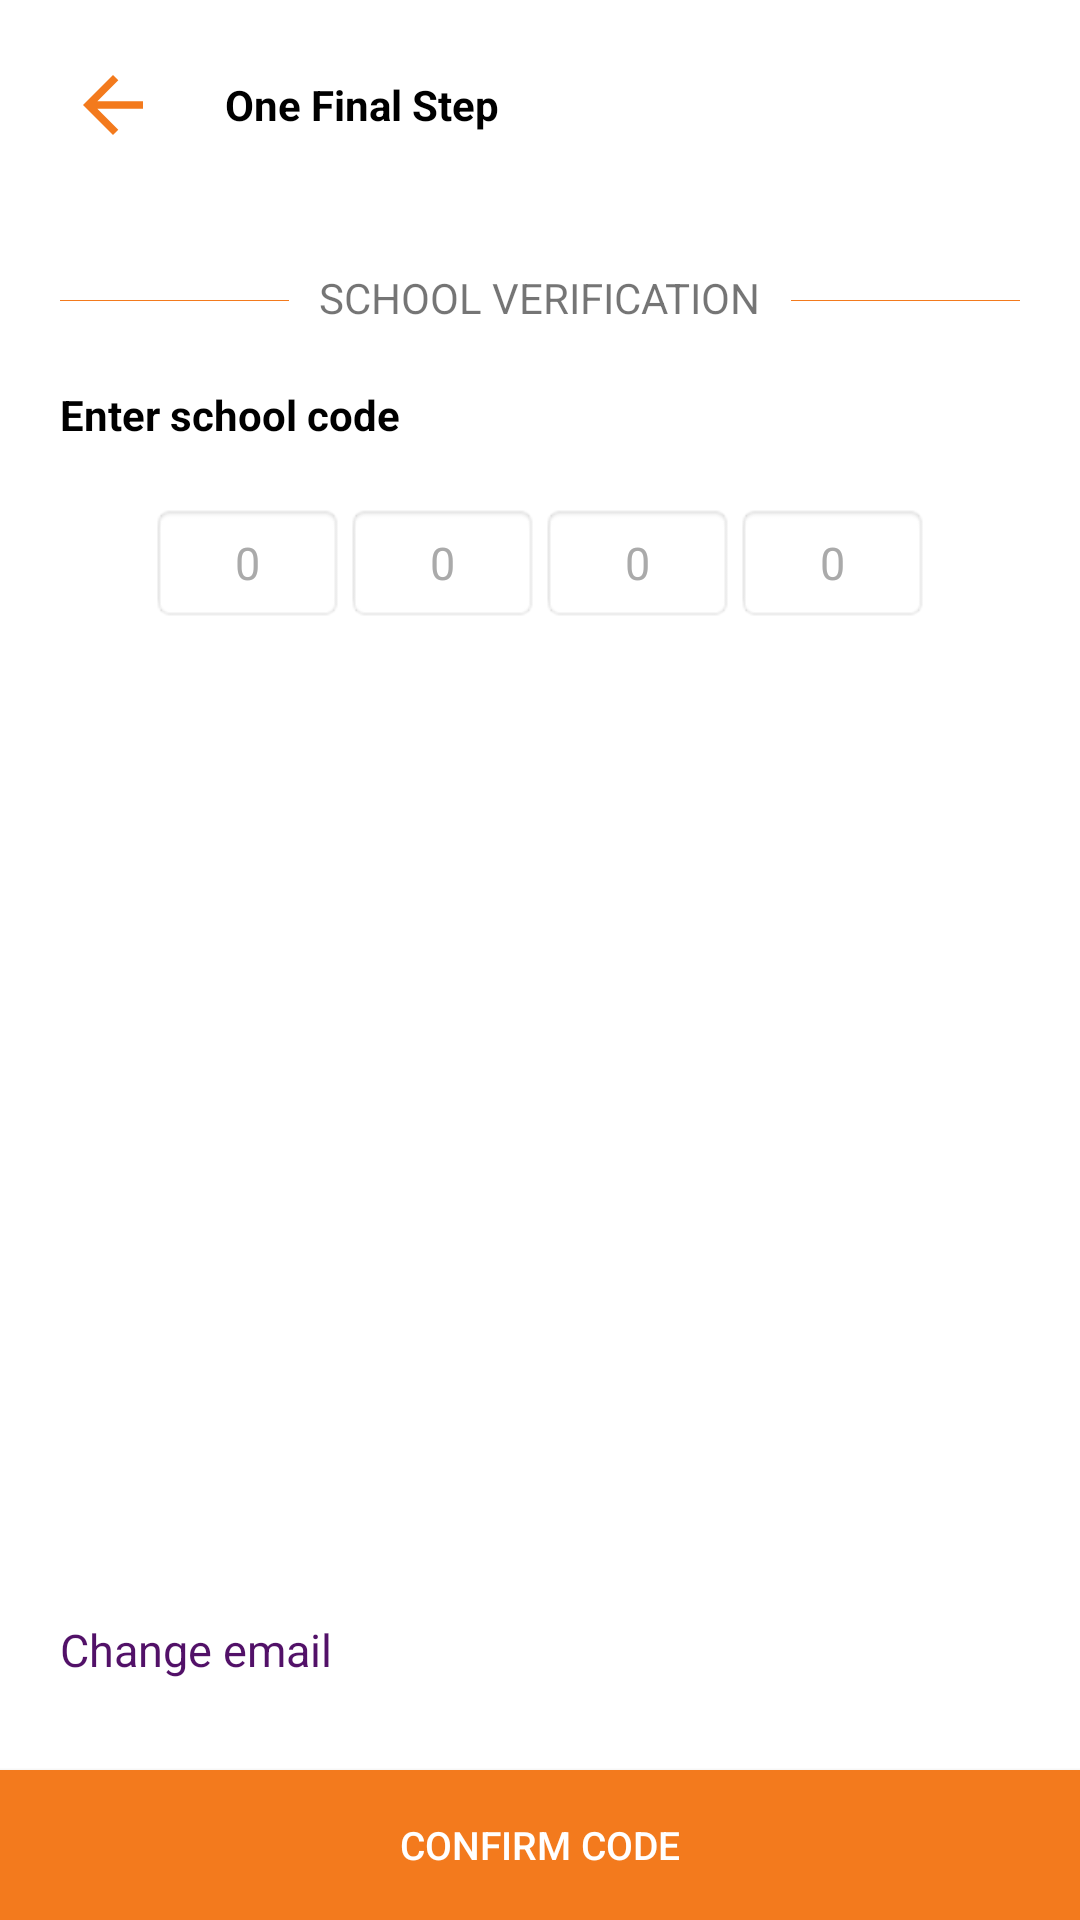

Where icons sit on this 1080w x 1920h app screen, as (x1, y1, x2, y2):
back: (83, 75, 143, 135)
